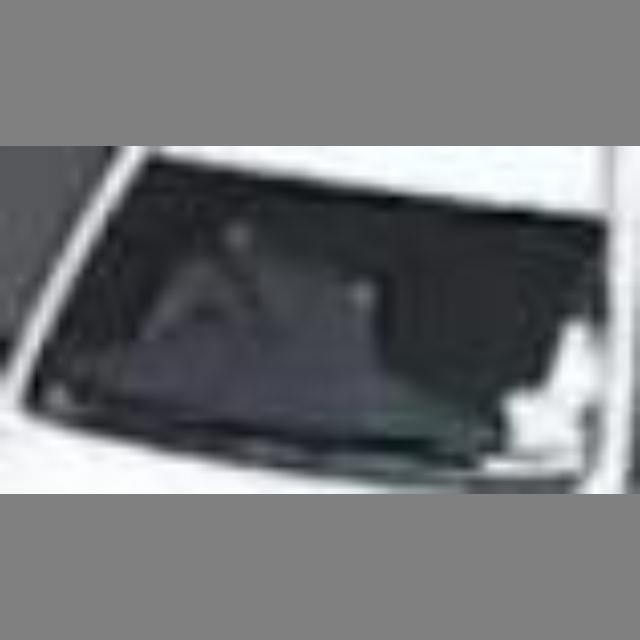pakai: (138, 195, 421, 397)
